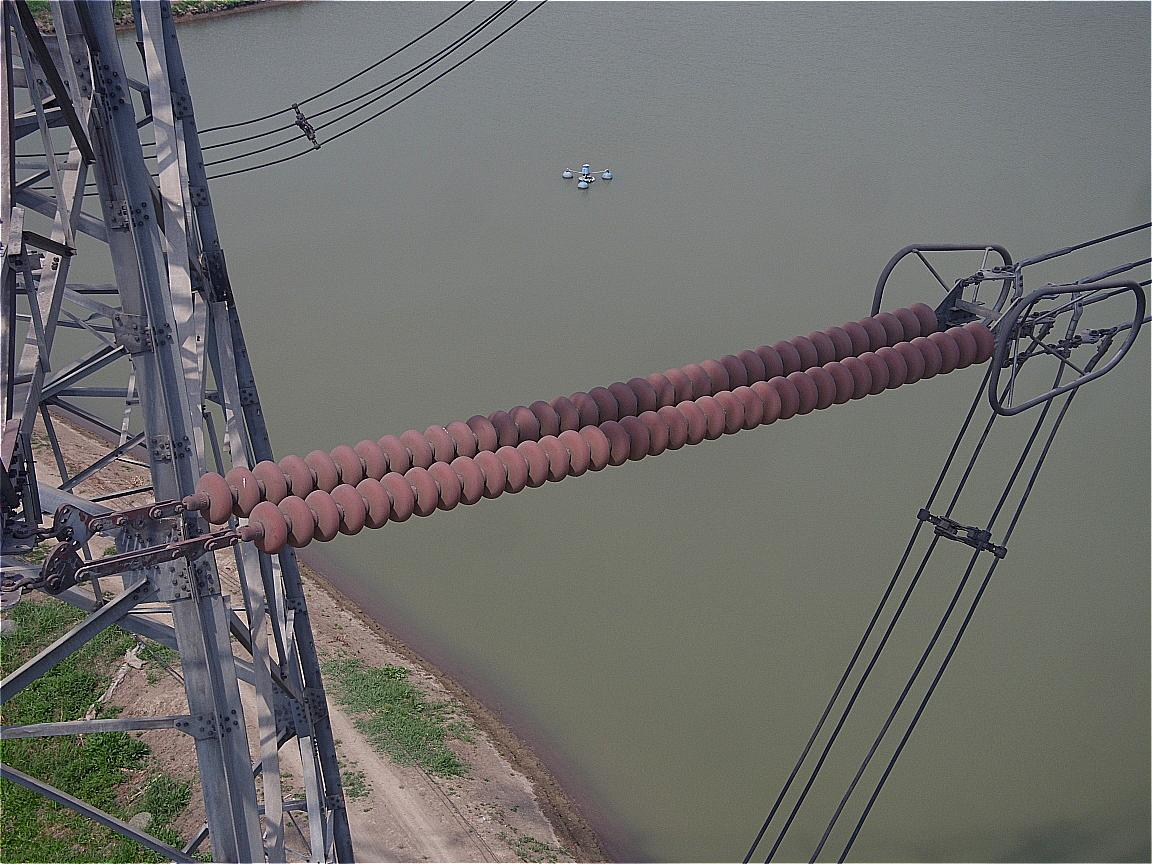insultor1: (195, 301, 996, 555)
